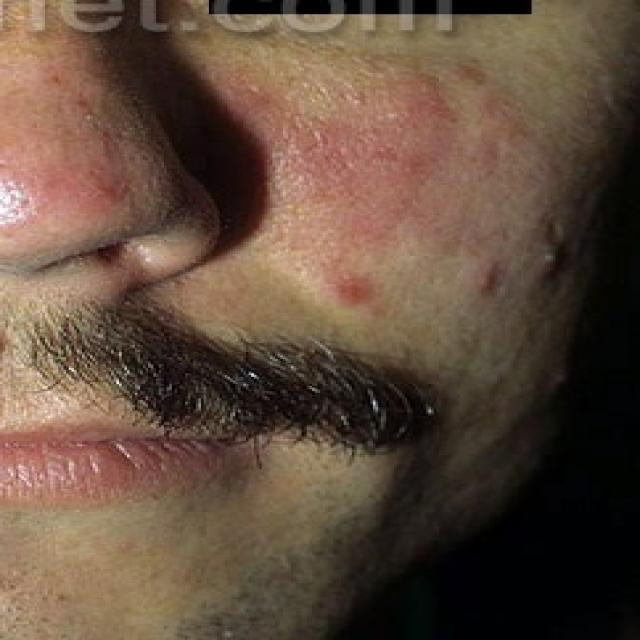Rosacea: (248, 88, 461, 215)
